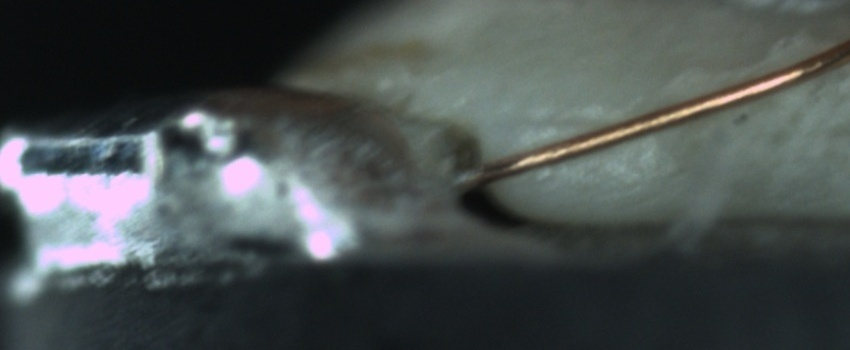DL: (511, 90, 637, 147)
